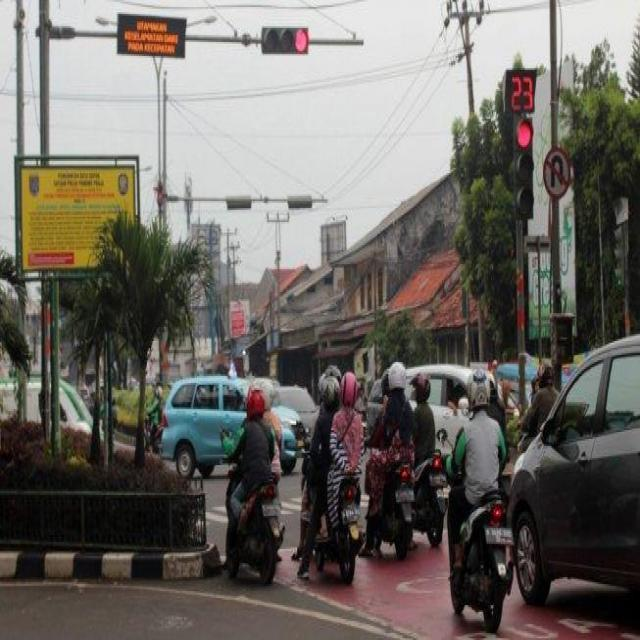red_light: (514, 115, 534, 224), (261, 24, 311, 56)
